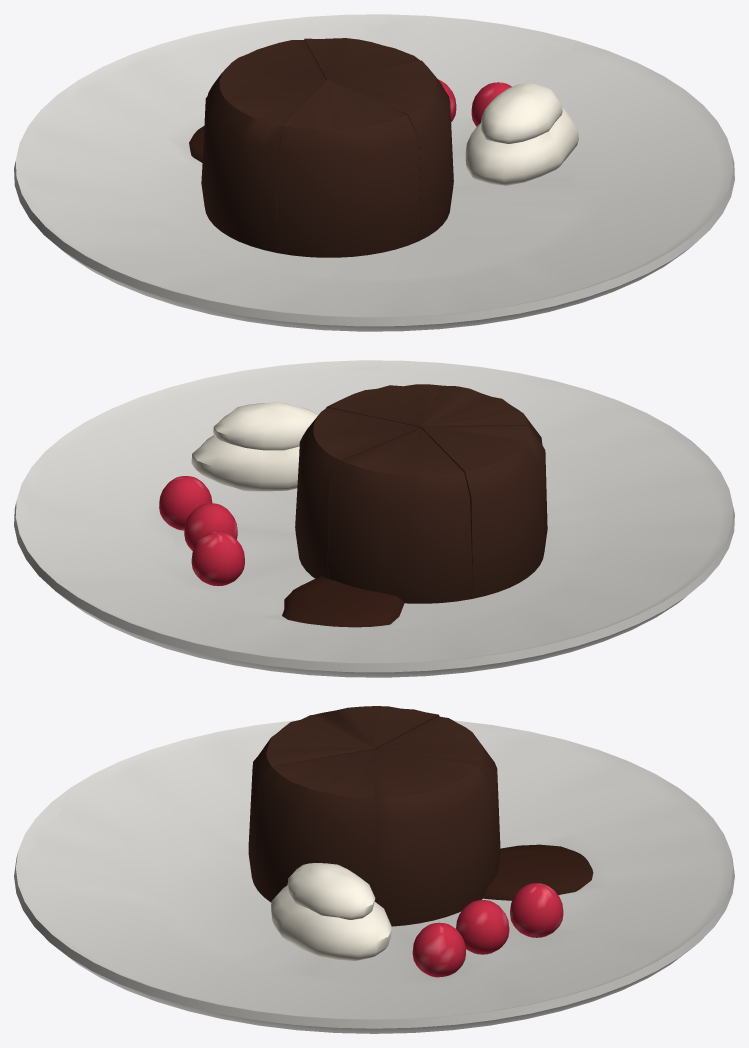
Rendered from dish-chocolate-fondant-lod0.glb.
The picture shows the model from 3 angles, top to bottom: view 1: azimuth 30°, elevation 25°; view 2: azimuth 150°, elevation 25°; view 3: azimuth 270°, elevation 25°; orthographic projection.
Visible parts, largest first — view 1: chocolate-fondant.lod0__table porcelain, chocolate-fondant.lod0__food, chocolate-fondant.lod0__food glaze; view 2: chocolate-fondant.lod0__table porcelain, chocolate-fondant.lod0__food, chocolate-fondant.lod0__food glaze; view 3: chocolate-fondant.lod0__table porcelain, chocolate-fondant.lod0__food, chocolate-fondant.lod0__food glaze.
Boxes of the visible parts, <box> form: chocolate-fondant.lod0__table porcelain: <box>14,14,734,331</box>; chocolate-fondant.lod0__food: <box>201,38,453,257</box>; chocolate-fondant.lod0__food glaze: <box>189,79,578,185</box>; chocolate-fondant.lod0__table porcelain: <box>14,360,734,677</box>; chocolate-fondant.lod0__food: <box>295,384,547,603</box>; chocolate-fondant.lod0__food glaze: <box>159,402,404,627</box>; chocolate-fondant.lod0__table porcelain: <box>14,720,734,1033</box>; chocolate-fondant.lod0__food: <box>248,706,500,926</box>; chocolate-fondant.lod0__food glaze: <box>271,844,593,977</box>.
Bounding box in the file's own units: 0.2 × 0.0493 × 0.2.
